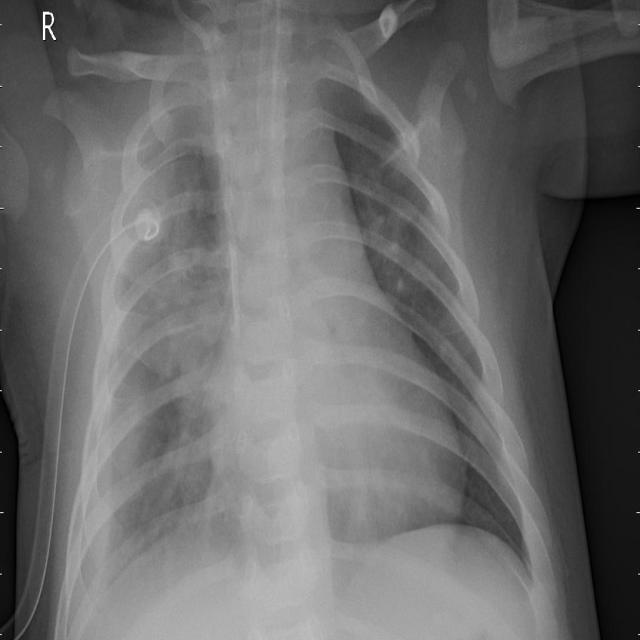high-pneumonia: (72, 67, 229, 570)
low-pneumonia: (352, 145, 439, 341)
